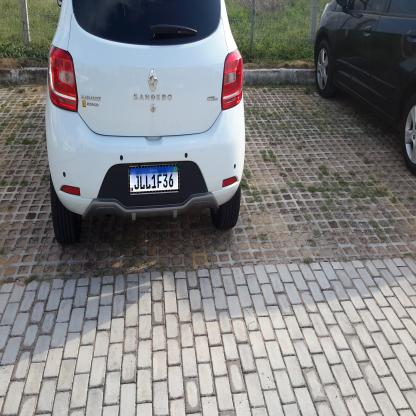PlacaM: (129, 164, 179, 194)
